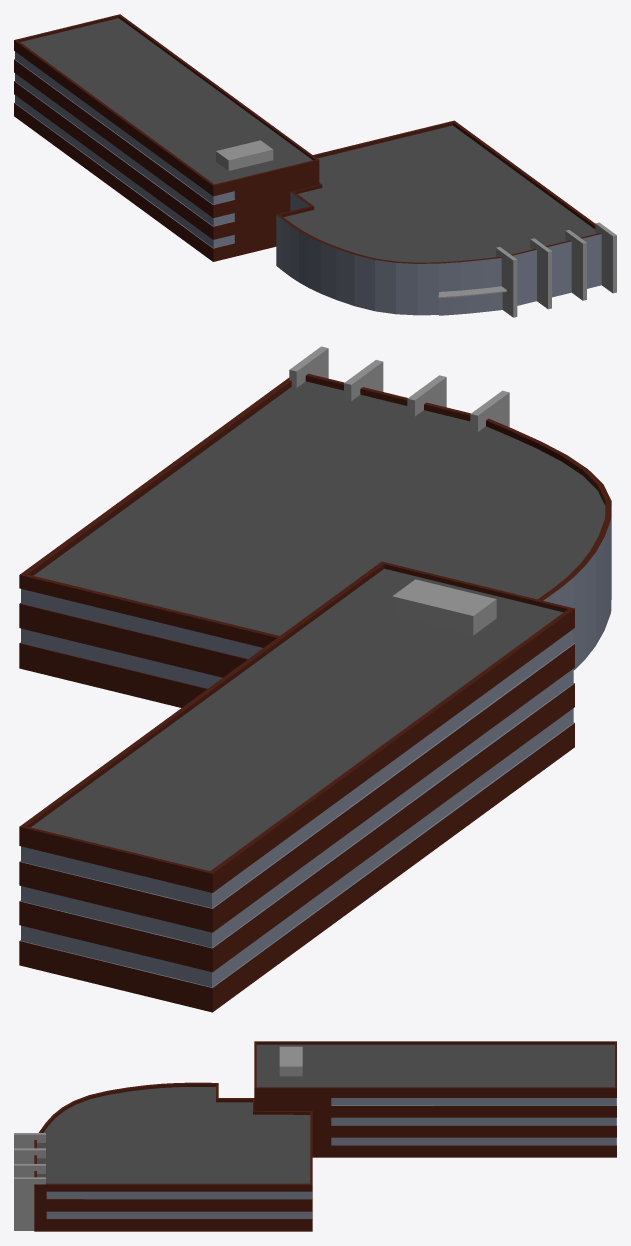
The model's file is building3.obj.
3 renders of one model, top to bottom at view 1: azimuth 30°, elevation 25°; view 2: azimuth 150°, elevation 25°; view 3: azimuth 270°, elevation 25°, orthographic. The views are drawn at different scales.
Visible parts, largest first — view 1: Object01, Object02, Object05, Object04, Object03; view 2: Object01, Object02, Object05, Object04, Object03; view 3: Object01, Object02, Object05, Object04, Object03.
Boxes of the visible parts, <box> form: Object01: <box>20,18,596,262</box>; Object02: <box>14,14,601,263</box>; Object05: <box>14,51,601,315</box>; Object04: <box>438,222,616,317</box>; Object03: <box>216,140,273,170</box>; Object01: <box>31,381,605,870</box>; Object02: <box>19,373,611,1012</box>; Object05: <box>19,507,611,987</box>; Object04: <box>289,346,509,431</box>; Object03: <box>392,579,496,635</box>; Object01: <box>37,1044,614,1183</box>; Object02: <box>34,1041,616,1231</box>; Object05: <box>46,1098,616,1218</box>; Object04: <box>14,1133,45,1230</box>; Object03: <box>279,1046,302,1076</box>.
Bounding box in the file's own units: 109 × 32.21 × 229.
